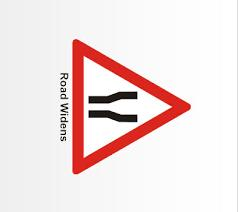Road Wideness Ahead: (69, 22, 198, 174), (85, 55, 190, 154)
